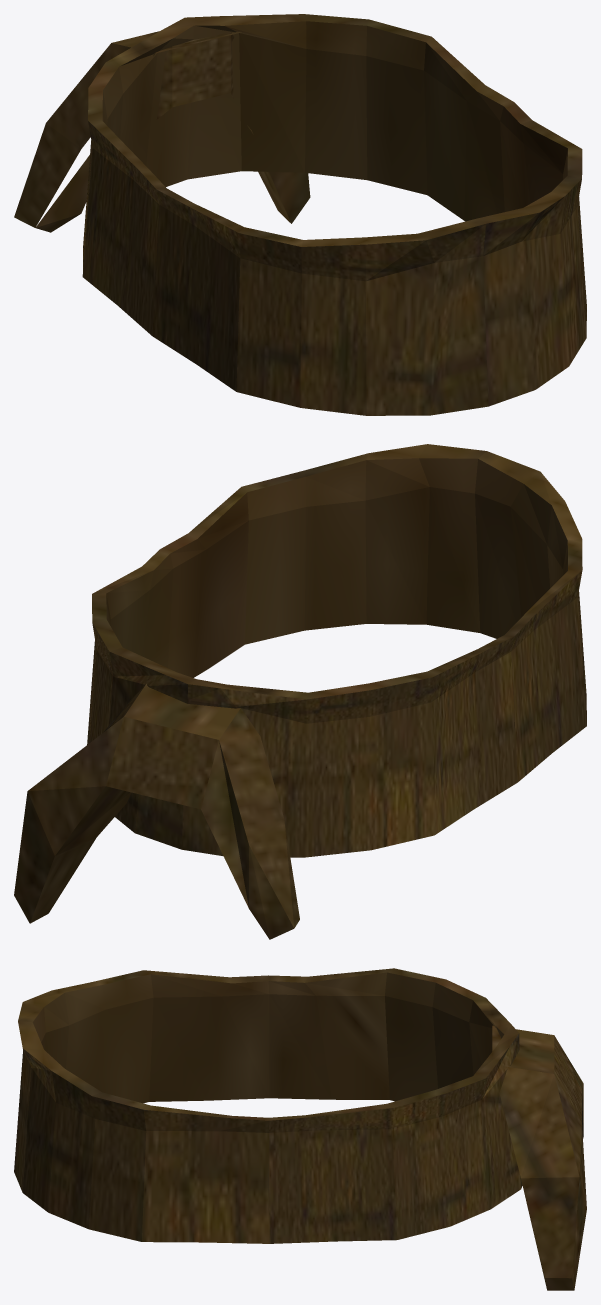
Rendered from OPASKA4.glb.
3 renders of one model, top to bottom at view 1: azimuth 30°, elevation 25°; view 2: azimuth 150°, elevation 25°; view 3: azimuth 270°, elevation 25°, orthographic. The views are drawn at different scales.
Visible parts, largest first — view 1: OPASKA4; view 2: OPASKA4; view 3: OPASKA4.
Boxes of the visible parts, box(x1,y1,x2,y2) form: OPASKA4: box(14, 14, 586, 415); OPASKA4: box(14, 444, 586, 939); OPASKA4: box(14, 968, 586, 1290).
Bounding box in the file's own units: 0.1793 × 0.1237 × 0.2931.
Materials: 1 (1 with a texture image).
